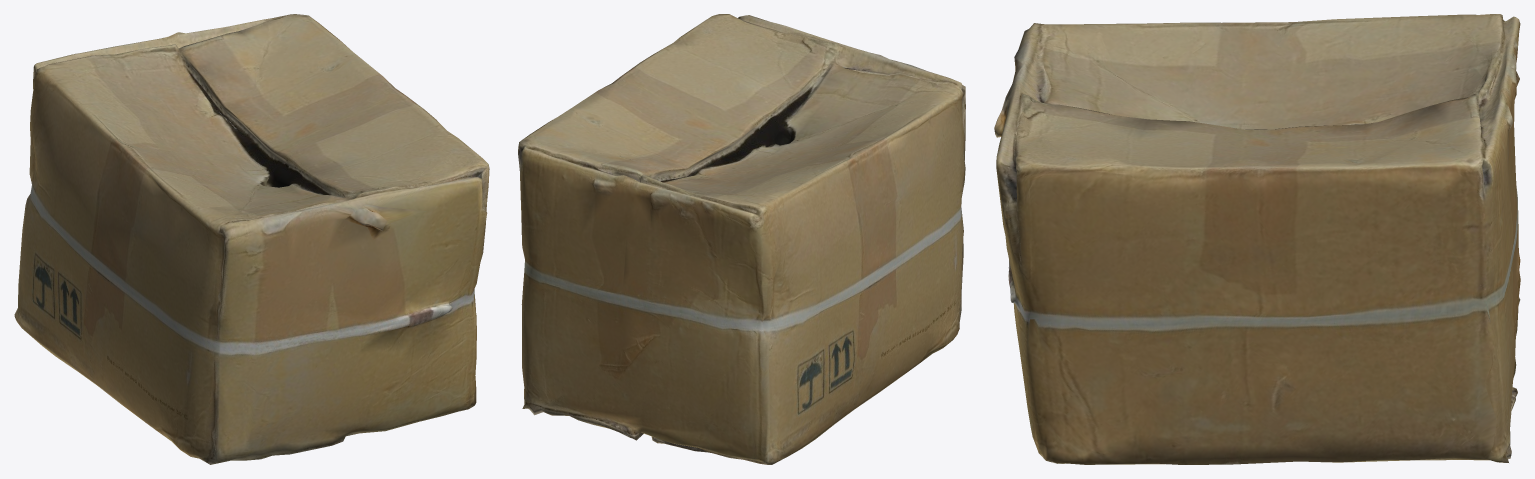
The model's file is cardboard_box_01.fbx.
The picture shows the model from 3 angles, left to right: view 1: azimuth 30°, elevation 25°; view 2: azimuth 150°, elevation 25°; view 3: azimuth 270°, elevation 25°; orthographic projection. The views are drawn at different scales.
Parts seen in each view (by area): view 1: cardboard_box_01_LOD0; view 2: cardboard_box_01_LOD0; view 3: cardboard_box_01_LOD0.
Boxes of the visible parts, bbox=[...] form: cardboard_box_01_LOD0: bbox=[14, 14, 489, 464]; cardboard_box_01_LOD0: bbox=[518, 14, 965, 464]; cardboard_box_01_LOD0: bbox=[994, 14, 1520, 464].
Size of what is drawn, in the model's own units: 38.7 by 34.11 by 51.59.
Materials: 1 (1 with a texture image).
